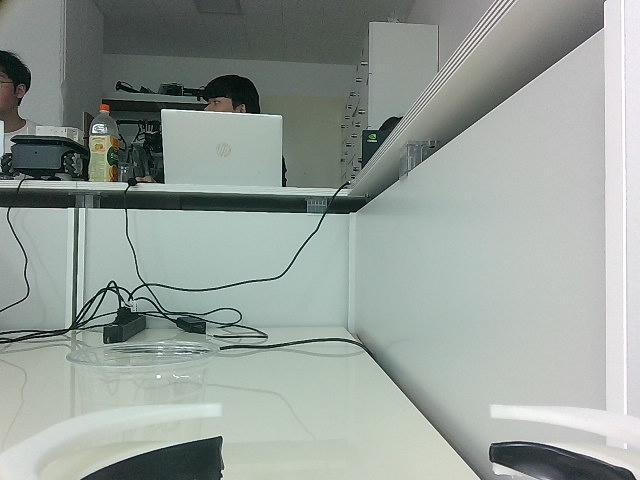Plastik: (64, 339, 220, 416)
